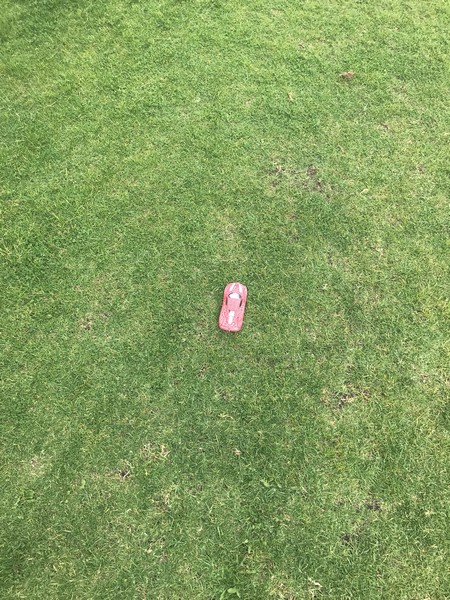RC: (217, 280, 250, 333)
